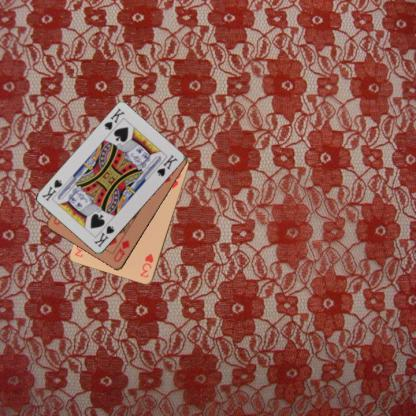3h: (137, 251, 155, 279)
Ks: (91, 223, 116, 249), (102, 106, 126, 132)
Qd: (111, 238, 131, 264)
